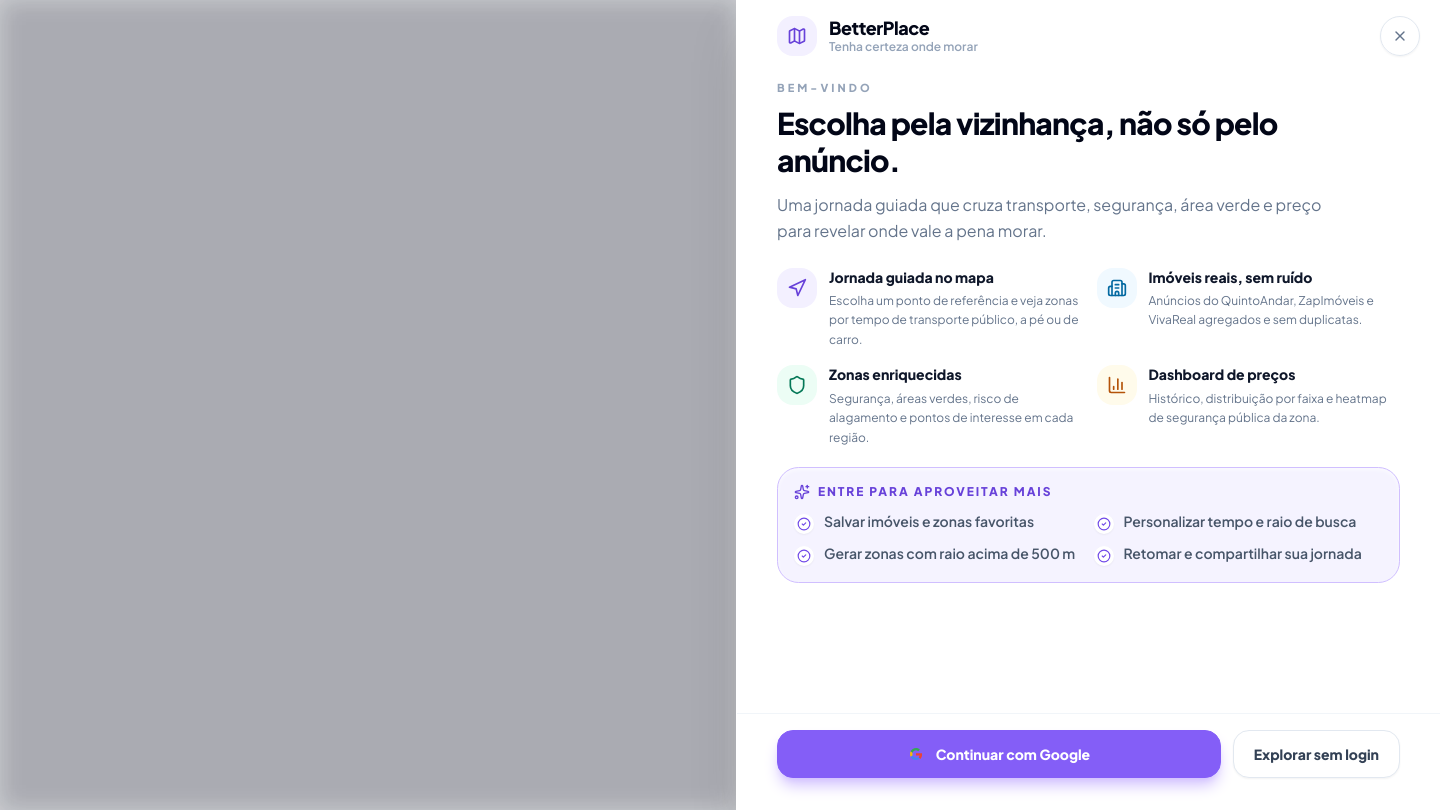
it: AuthAccessCard › fecha o modal ao clicar em Fechar
expect the heading "Escolha pela vizinhança, não só pelo anúncio." is shown: met, box [777,104,1353,180]
Click the button named "Fechar janela de entrada" at coordinates (1400, 36), box [1380,16,1420,56]
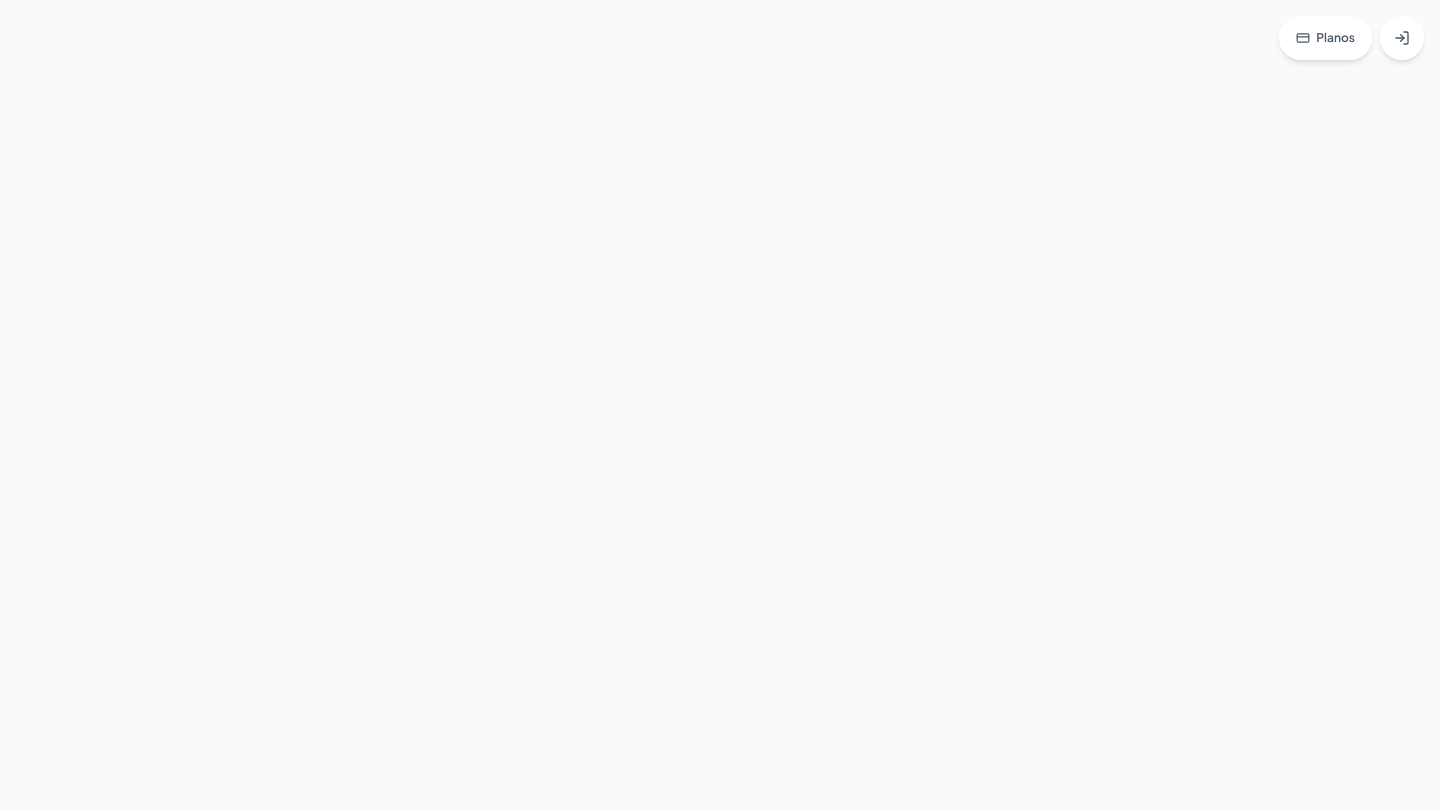
expect the heading "Escolha pela vizinhança, não só pelo anúncio." is gone: met
